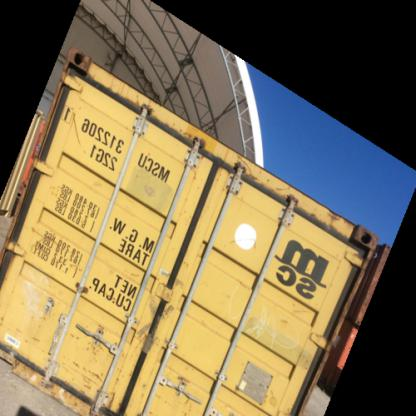Damage: (28, 224, 84, 276), (65, 356, 105, 393), (172, 121, 208, 151), (68, 110, 91, 154), (228, 151, 255, 180), (131, 90, 157, 120), (107, 367, 124, 411), (39, 290, 62, 322), (67, 49, 92, 78), (222, 234, 258, 254), (12, 322, 42, 346), (42, 179, 80, 197), (274, 184, 298, 211), (134, 363, 150, 403), (319, 202, 345, 225), (138, 173, 160, 200), (170, 366, 194, 389), (187, 166, 203, 196), (289, 300, 319, 316), (83, 328, 103, 352), (230, 272, 253, 290), (122, 264, 143, 280), (6, 234, 24, 252), (84, 177, 110, 188), (179, 396, 195, 413), (168, 275, 190, 287), (180, 256, 192, 271), (0, 300, 6, 328), (276, 313, 290, 324), (221, 293, 232, 301)
